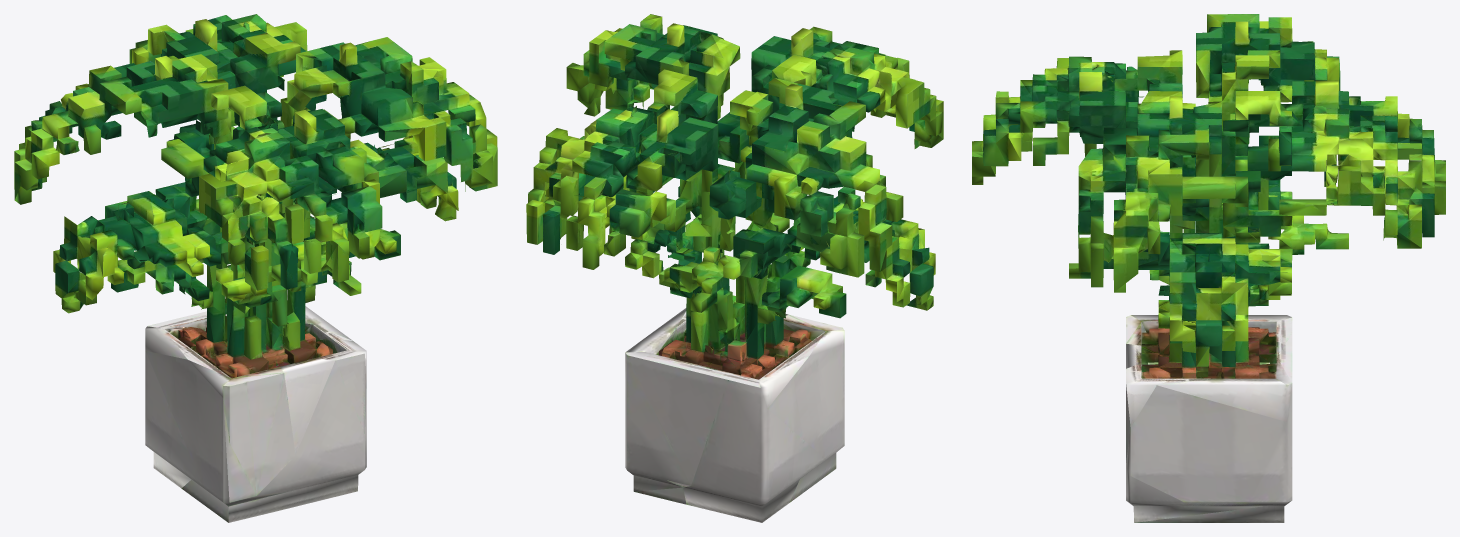
The model's file is large_plant_pot.glb.
3 views of the same model, side by side, from view 1: azimuth 30°, elevation 25°; view 2: azimuth 150°, elevation 25°; view 3: azimuth 270°, elevation 25° (orthographic).
Bounding box in the file's own units: 1.9 × 2 × 2.
Materials: 1 (1 with a texture image).
